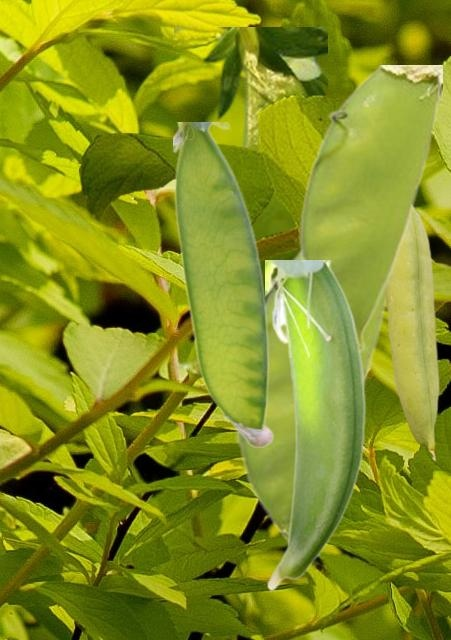pea: (174, 27, 326, 377), (235, 249, 386, 544), (299, 65, 441, 351), (265, 260, 368, 590), (173, 122, 273, 446), (384, 207, 439, 460)
